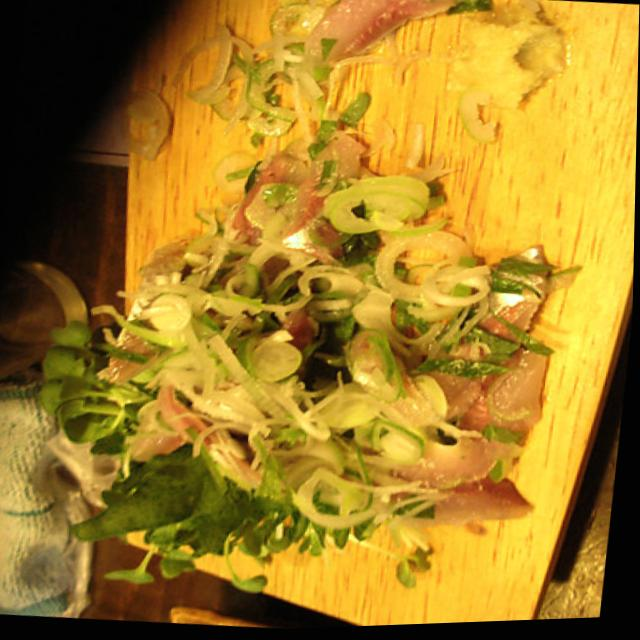熟制海鲜: (2, 50, 625, 640)
